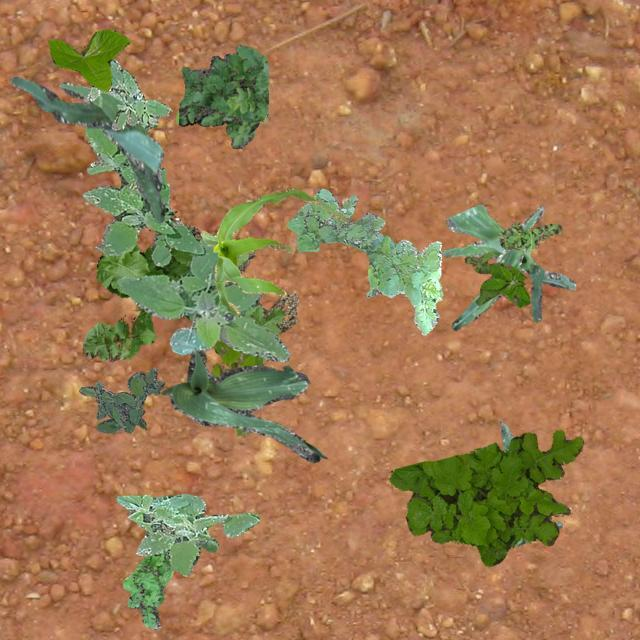crop: (10, 76, 164, 222), (160, 346, 324, 462), (200, 188, 346, 316), (440, 204, 574, 320), (451, 204, 544, 330), (499, 420, 561, 544), (48, 28, 128, 90)
weed: (81, 222, 298, 360), (388, 428, 582, 566), (286, 188, 442, 334), (115, 237, 288, 361), (82, 118, 205, 266), (115, 492, 258, 574), (175, 44, 268, 148), (86, 58, 170, 128), (78, 366, 164, 432), (210, 338, 262, 436), (122, 548, 172, 628), (464, 250, 528, 306), (498, 220, 562, 250)
